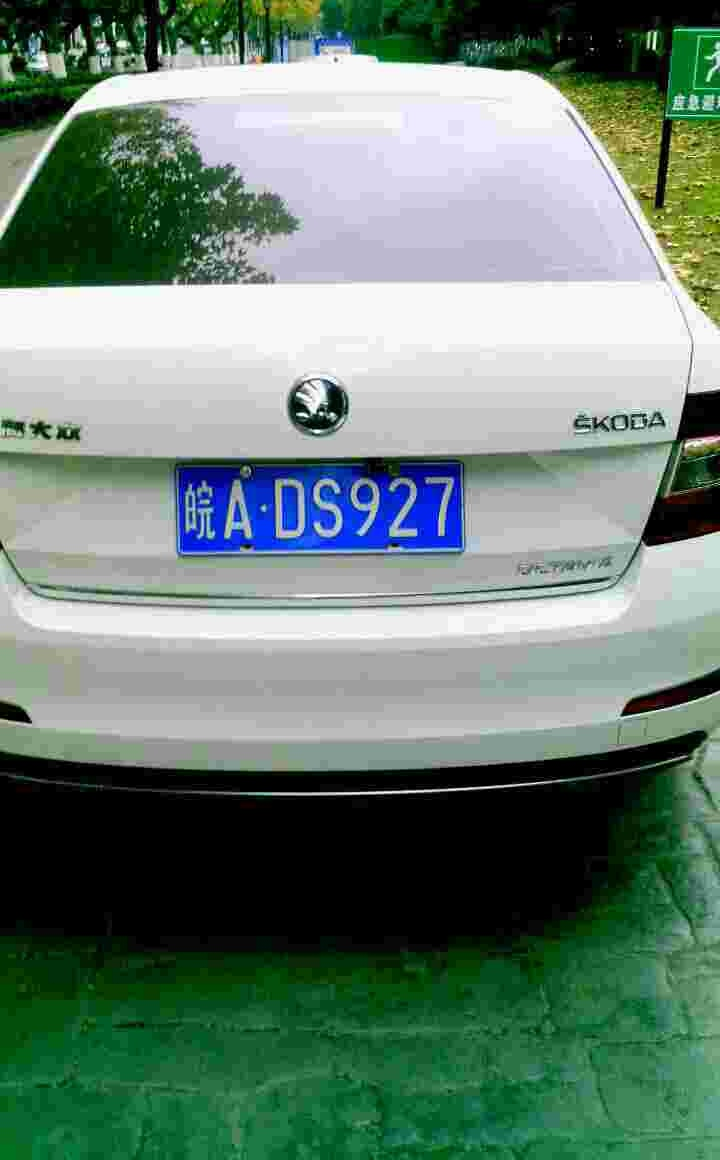license_plate: (172, 459, 464, 564)
